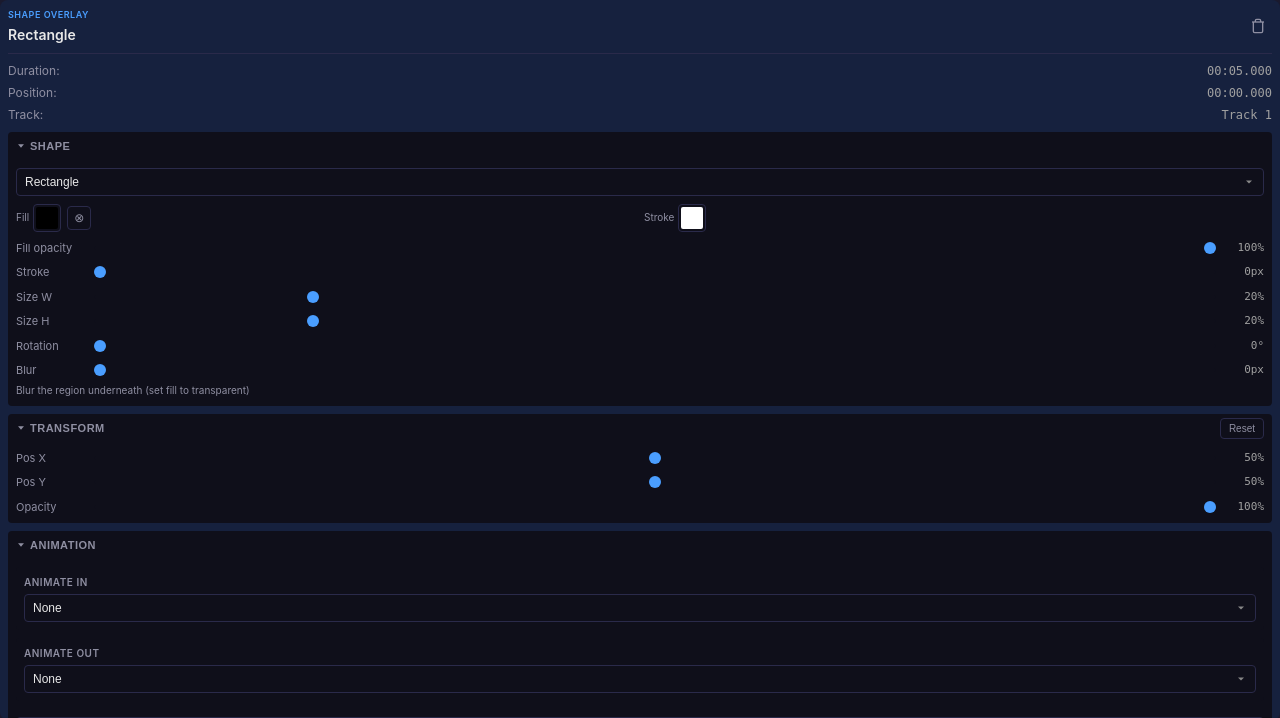
Test: ClipEditor shape overlay › changes the shape type and renames the clip
Step 1. Select "Ellipse" in the dropdown named "Shape type" → (640, 182), box [16, 168, 1264, 196]
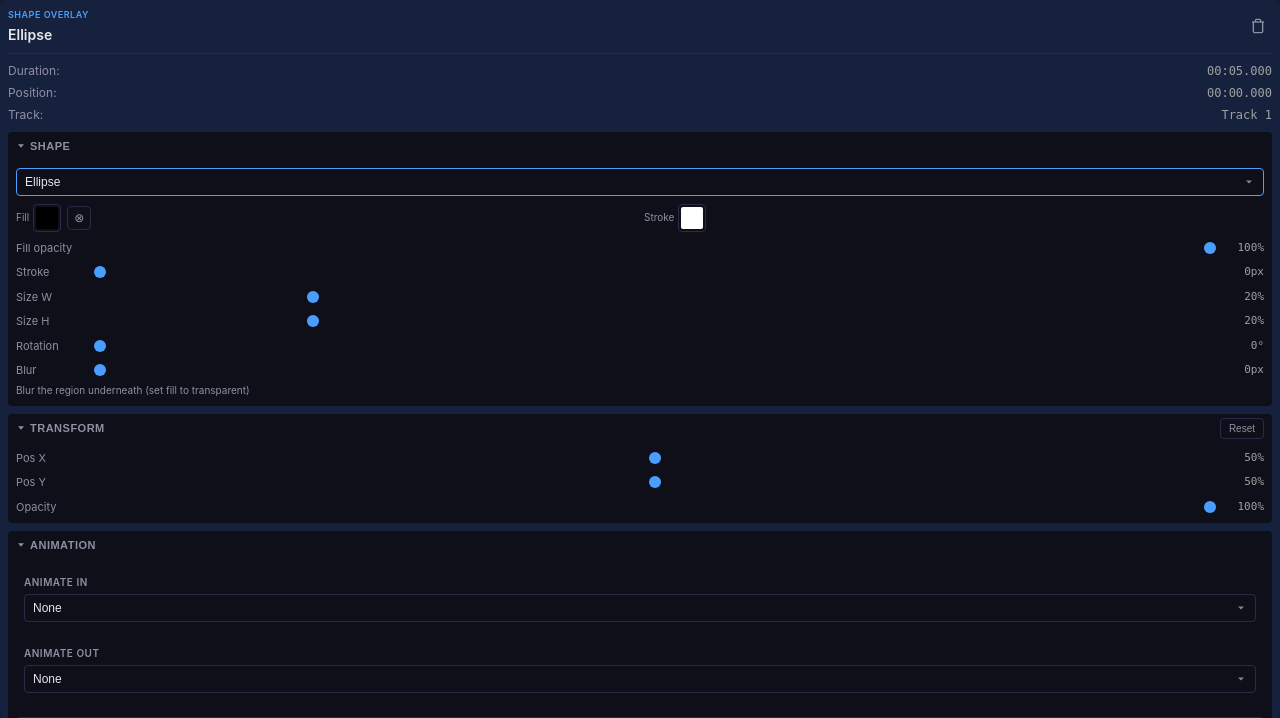
Now the heading "Ellipse" is shown, box [8, 26, 52, 42]
